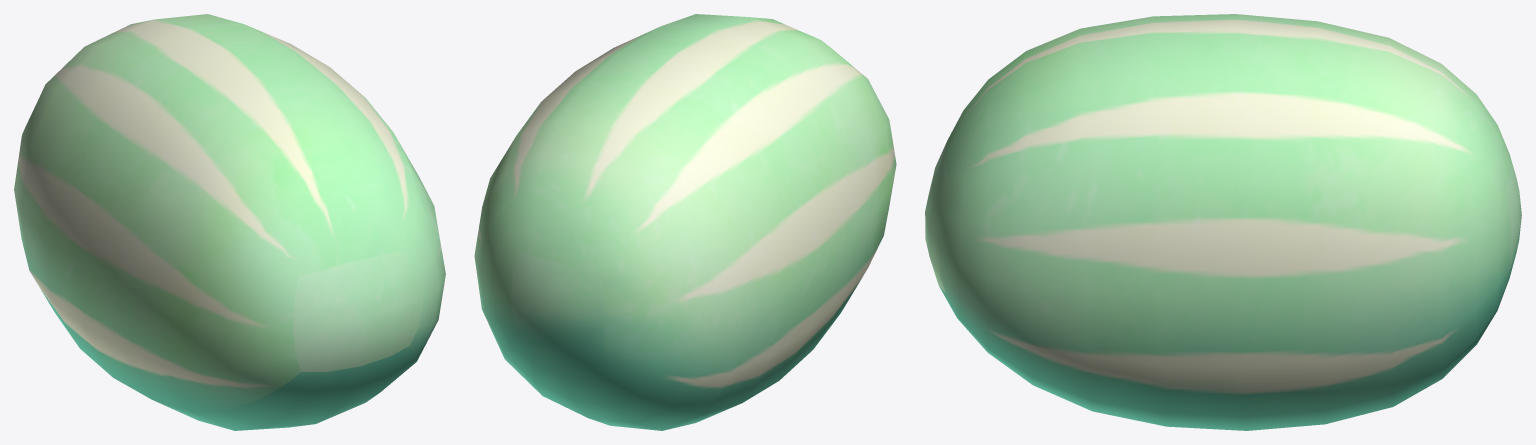
File: watermelon.fbx
3 renders of one model, left to right at view 1: azimuth 30°, elevation 25°; view 2: azimuth 150°, elevation 25°; view 3: azimuth 270°, elevation 25°, orthographic. The views are drawn at different scales.
Parts seen in each view (by area): view 1: polySurface1; view 2: polySurface1; view 3: polySurface1.
Part boxes in pixels (bbox=[...]): polySurface1: bbox=[14, 14, 445, 430]; polySurface1: bbox=[474, 14, 896, 430]; polySurface1: bbox=[925, 14, 1521, 430].
Size of the model in its own units: 0.9384 by 1.08 by 1.51.
